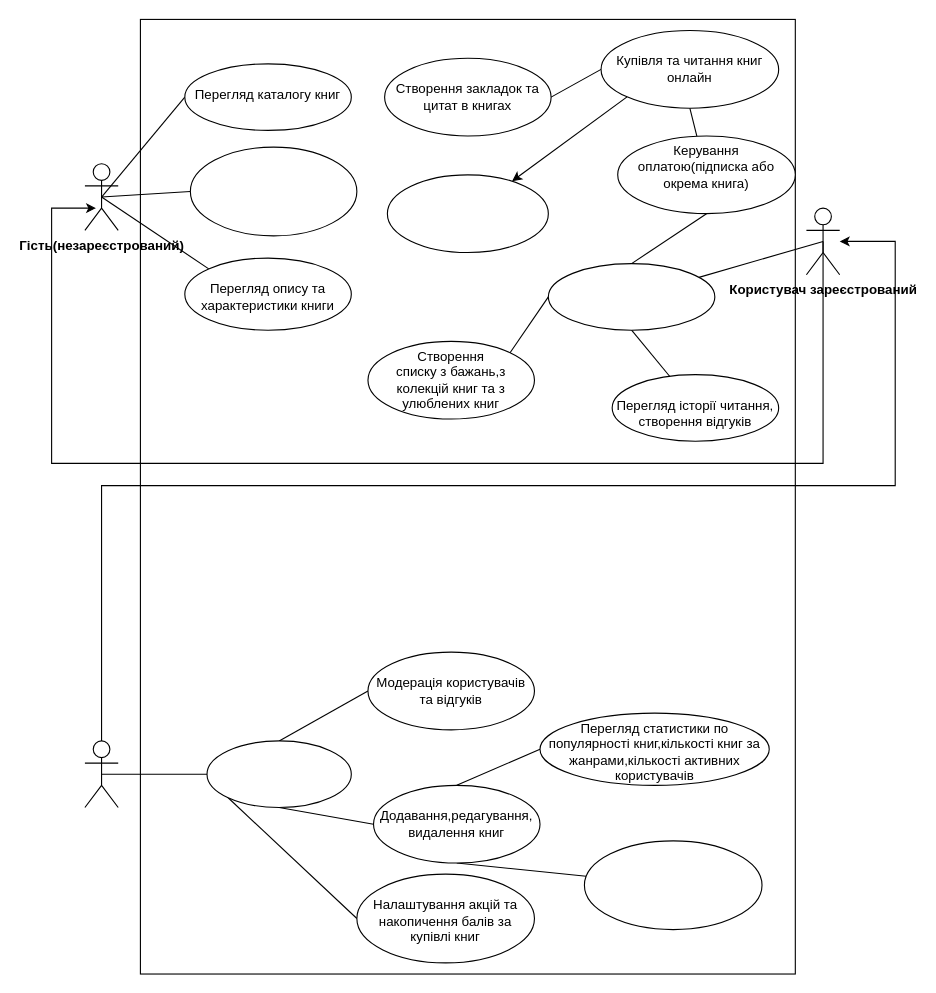
This 936x993 diagram has some shape labels left out. The centre of each missing label's shape, as x and y in pixels:
"Адміністратор" belongs at pixel 101 774.
"Використання пошуку та фільтрації книг за параметрами" belongs at pixel 273 191.
"Вхід до адмін панелі" belongs at pixel 278 774.
"Керування метаданими книг та іншими характеристиками" belongs at pixel 672 885.
"Перегляд історії покупок" belongs at pixel 467 213.
"Реєстрація/авторизація" belongs at pixel 631 296.
